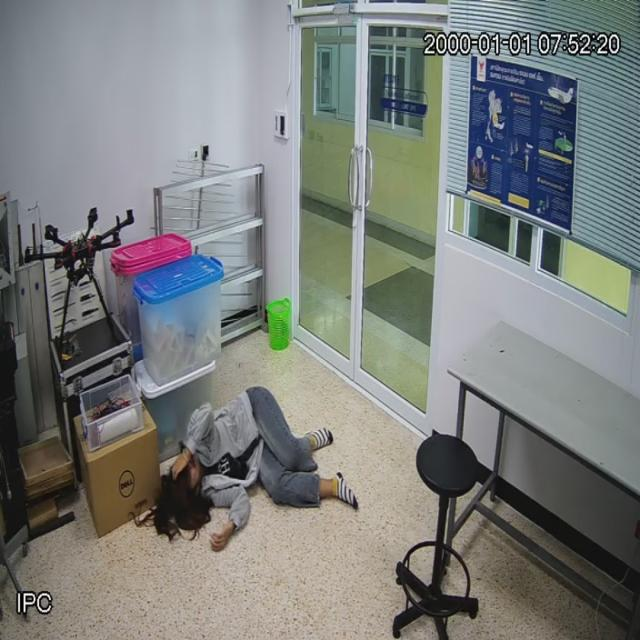fall: (150, 379, 362, 542)
